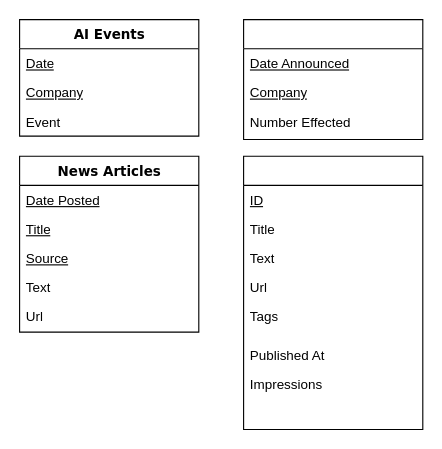
Some shapes in this 442 by 449 pixel diagram are drawn without their labels. The shapes that lost their labels are listed below. From the top down, each one's box as (x1, y1, x2, y2) in pixels, then its label:
(242, 18, 423, 139): AI Related Layoffs
(242, 155, 423, 430): Dev Posts
